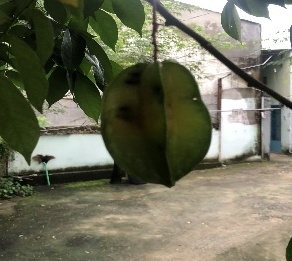Khe: (95, 59, 217, 191)
